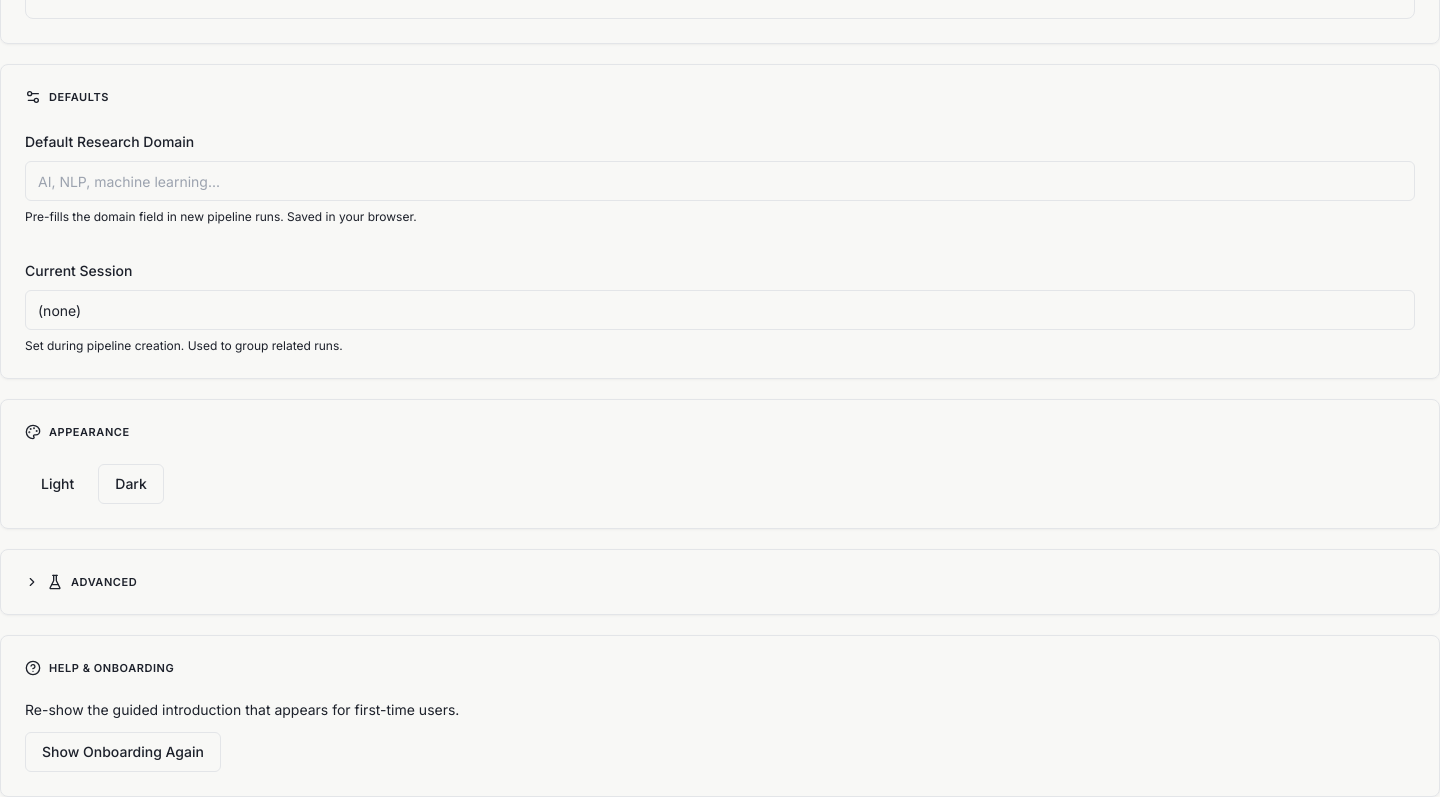
it: BATCH-27/TASK-02: Self-Improvement Settings + Scheduler Controls › TEST-27-02-01: Settings shows self-improve section (read-only)
The width and height of the screenshot is (1440, 797).
(page scrolled)
Click the button with test id "advanced-toggle".
click(104, 582)  # box [25,574,1415,590]
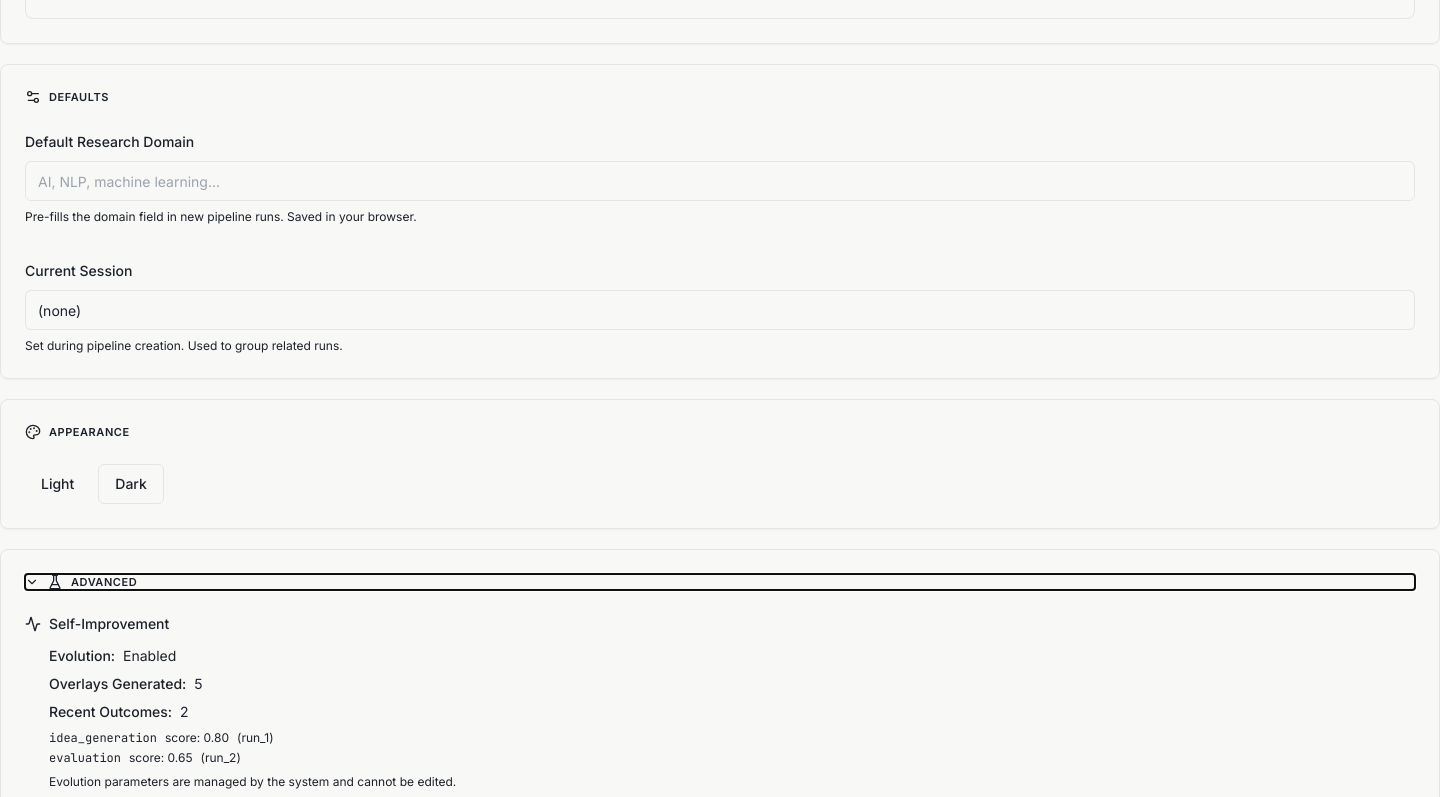
Expected: the element with test id "self-improve-section" is shown, [25,615,456,789]
Expected: the heading "Self-Improvement" is shown, [25,615,169,632]
Expected: the text with test id "evolution-enabled-status" reads "Enabled", [123,647,176,664]
